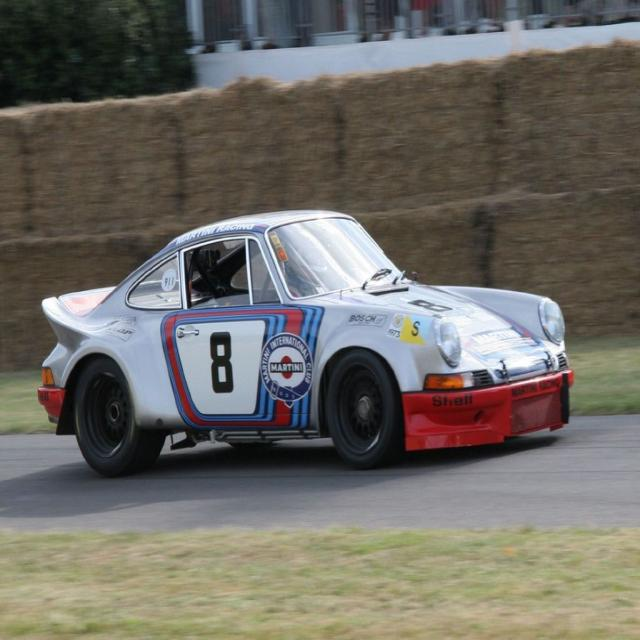car: (41, 211, 570, 467)
